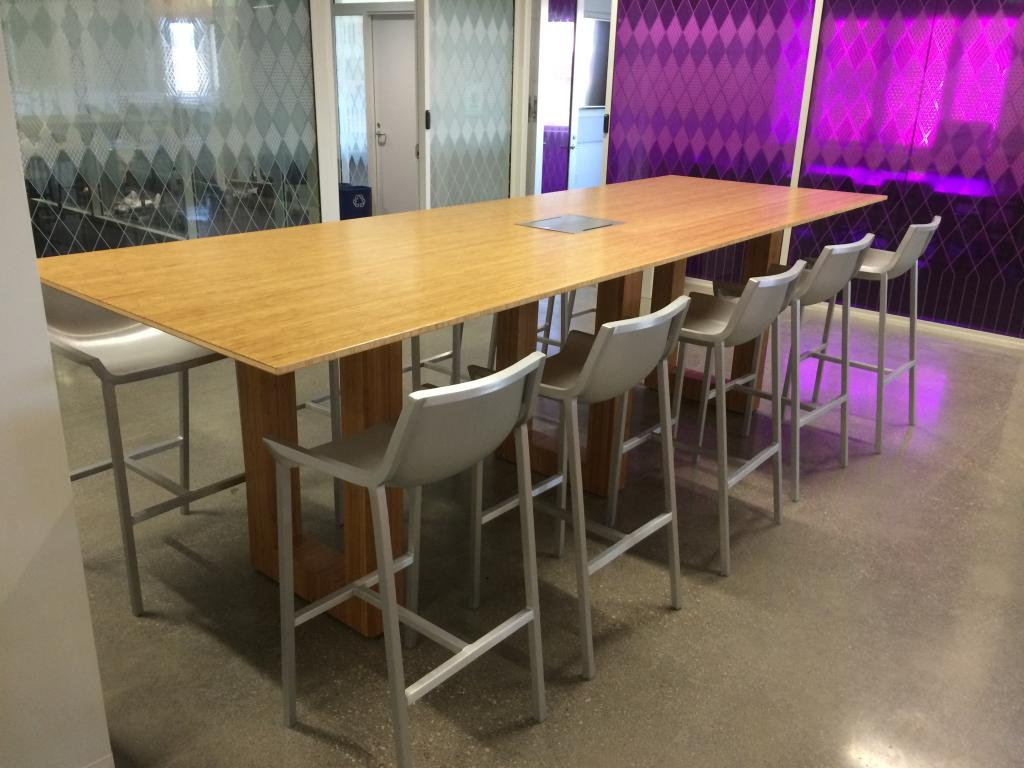conference_table: (38, 173, 887, 635)
